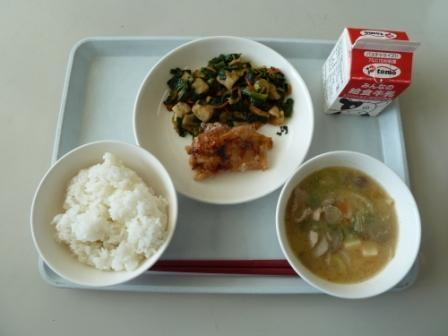Meat: (186, 122, 276, 184)
Milk: (330, 19, 422, 116)
Rice: (24, 143, 171, 282)
Soups: (281, 148, 418, 294)
salad with sauce: (161, 45, 283, 125)
